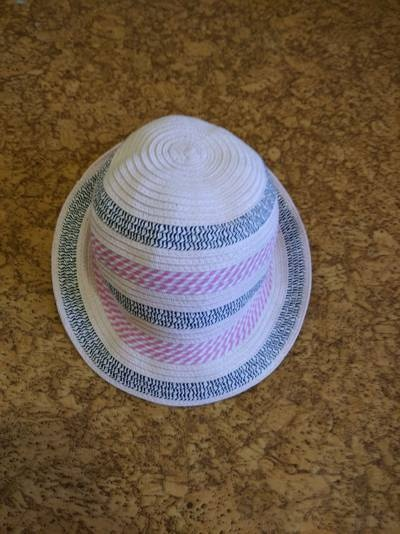Hat: (51, 91, 325, 403)
